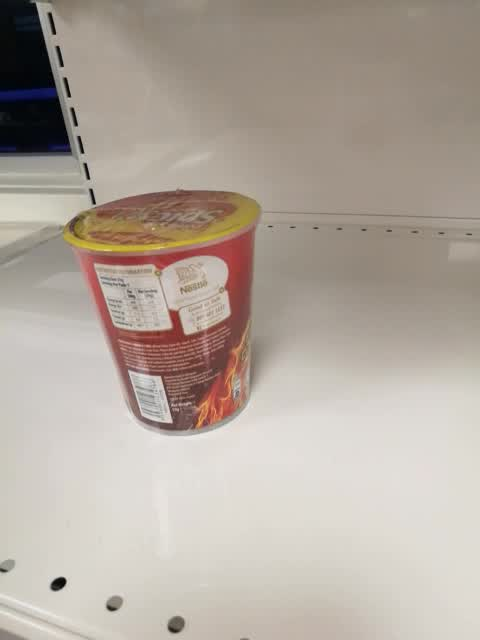maggi: (64, 188, 264, 438)
